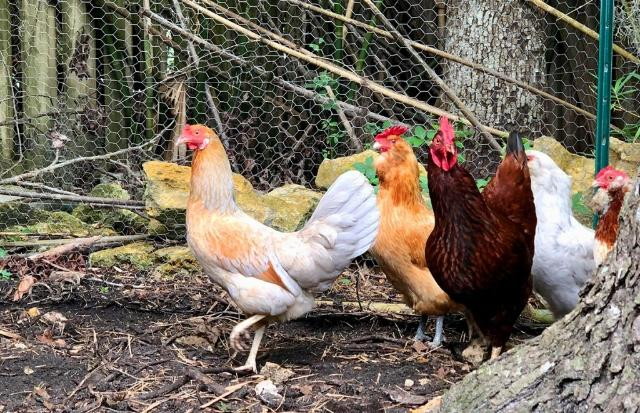Chicken: (174, 122, 380, 372), (425, 116, 538, 362), (372, 124, 449, 343), (522, 150, 597, 319), (589, 165, 633, 267)
